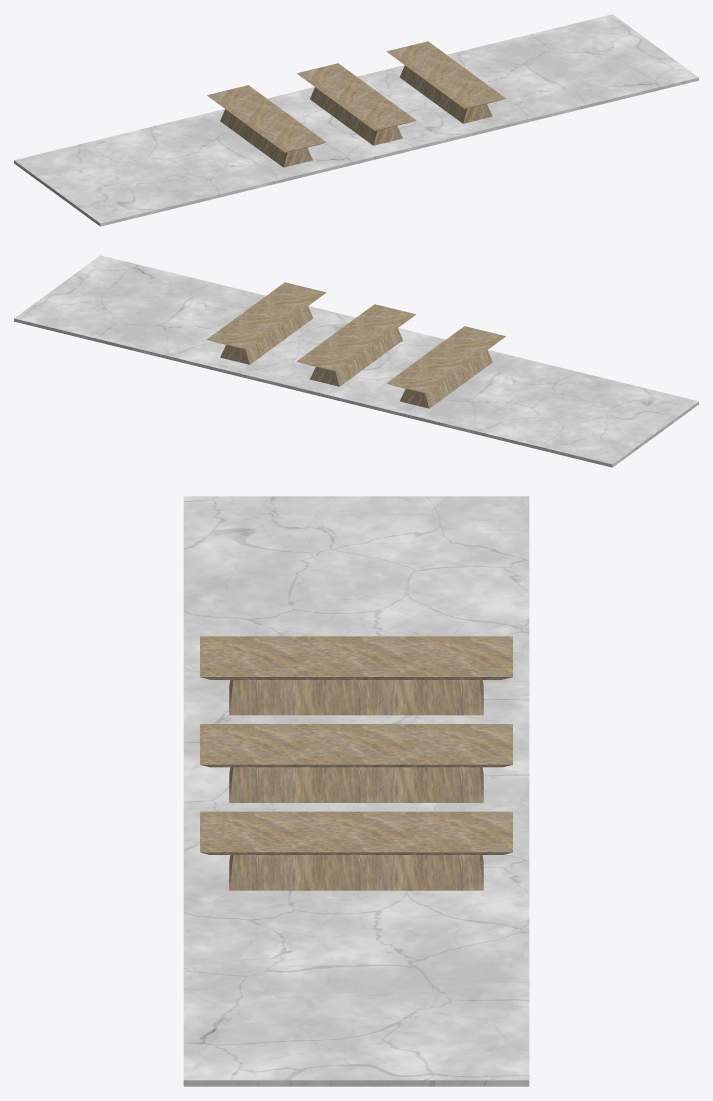
File: exhibito-opt.glb
3 views of the same model, one above another, from view 1: azimuth 30°, elevation 25°; view 2: azimuth 150°, elevation 25°; view 3: azimuth 270°, elevation 25° (orthographic). The views are drawn at different scales.
Visible parts, largest first — view 1: marb;e matte.006, TAS MASA.002; view 2: marb;e matte.006, TAS MASA.002; view 3: marb;e matte.006, TAS MASA.002.
Boxes of the visible parts, x1=… form: marb;e matte.006: x1=14, y1=14, x2=698, y2=226; TAS MASA.002: x1=207, y1=41, x2=505, y2=167; marb;e matte.006: x1=14, y1=255, x2=698, y2=467; TAS MASA.002: x1=207, y1=282, x2=505, y2=408; marb;e matte.006: x1=183, y1=496, x2=529, y2=1086; TAS MASA.002: x1=200, y1=636, x2=512, y2=890.
Size of the model in its own units: 40 by 1.61 by 10.
2 materials, 2 textured.
